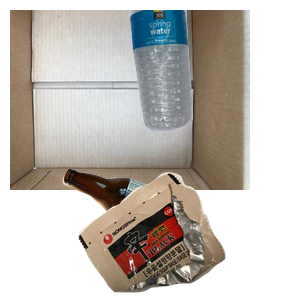cardboard: (10, 10, 250, 190)
glass: (60, 166, 241, 300)
plastic: (127, 10, 300, 134)
trash: (76, 170, 300, 300)
